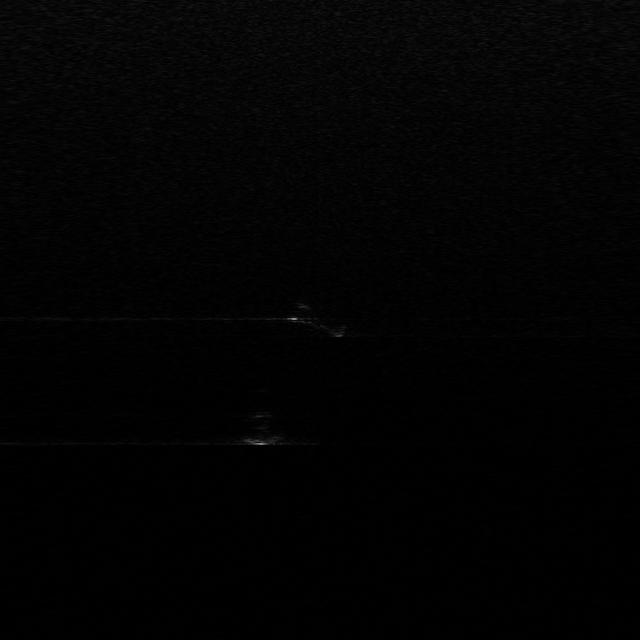ball: (233, 408, 287, 445)
tyre: (287, 298, 353, 339)
